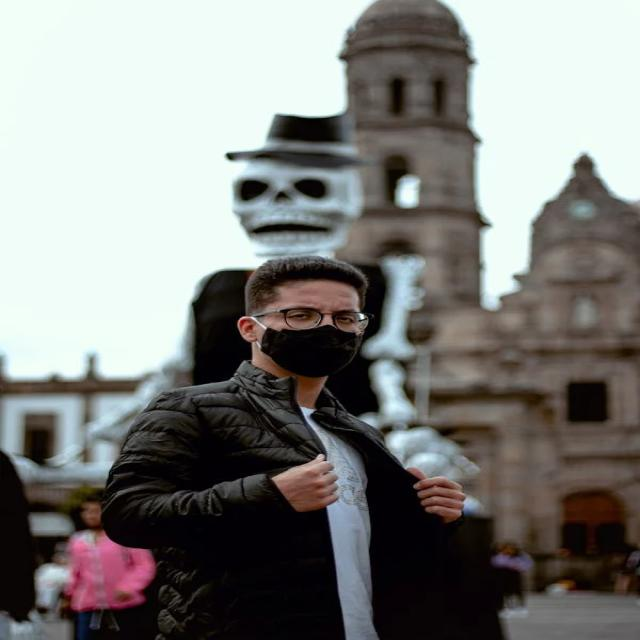mask: (214, 251, 408, 388)
